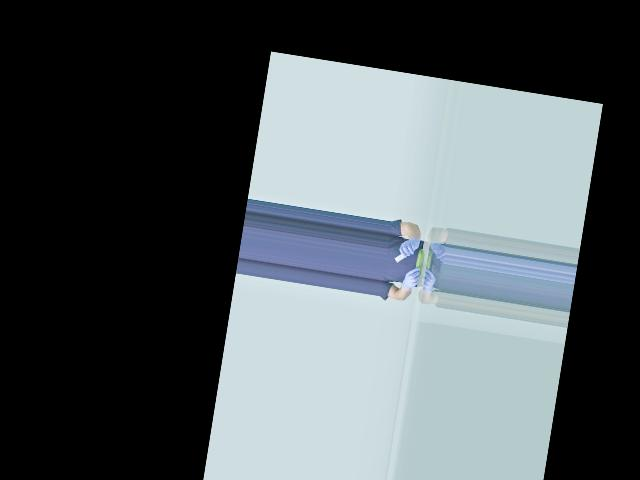cucumber: (414, 248, 425, 276)
